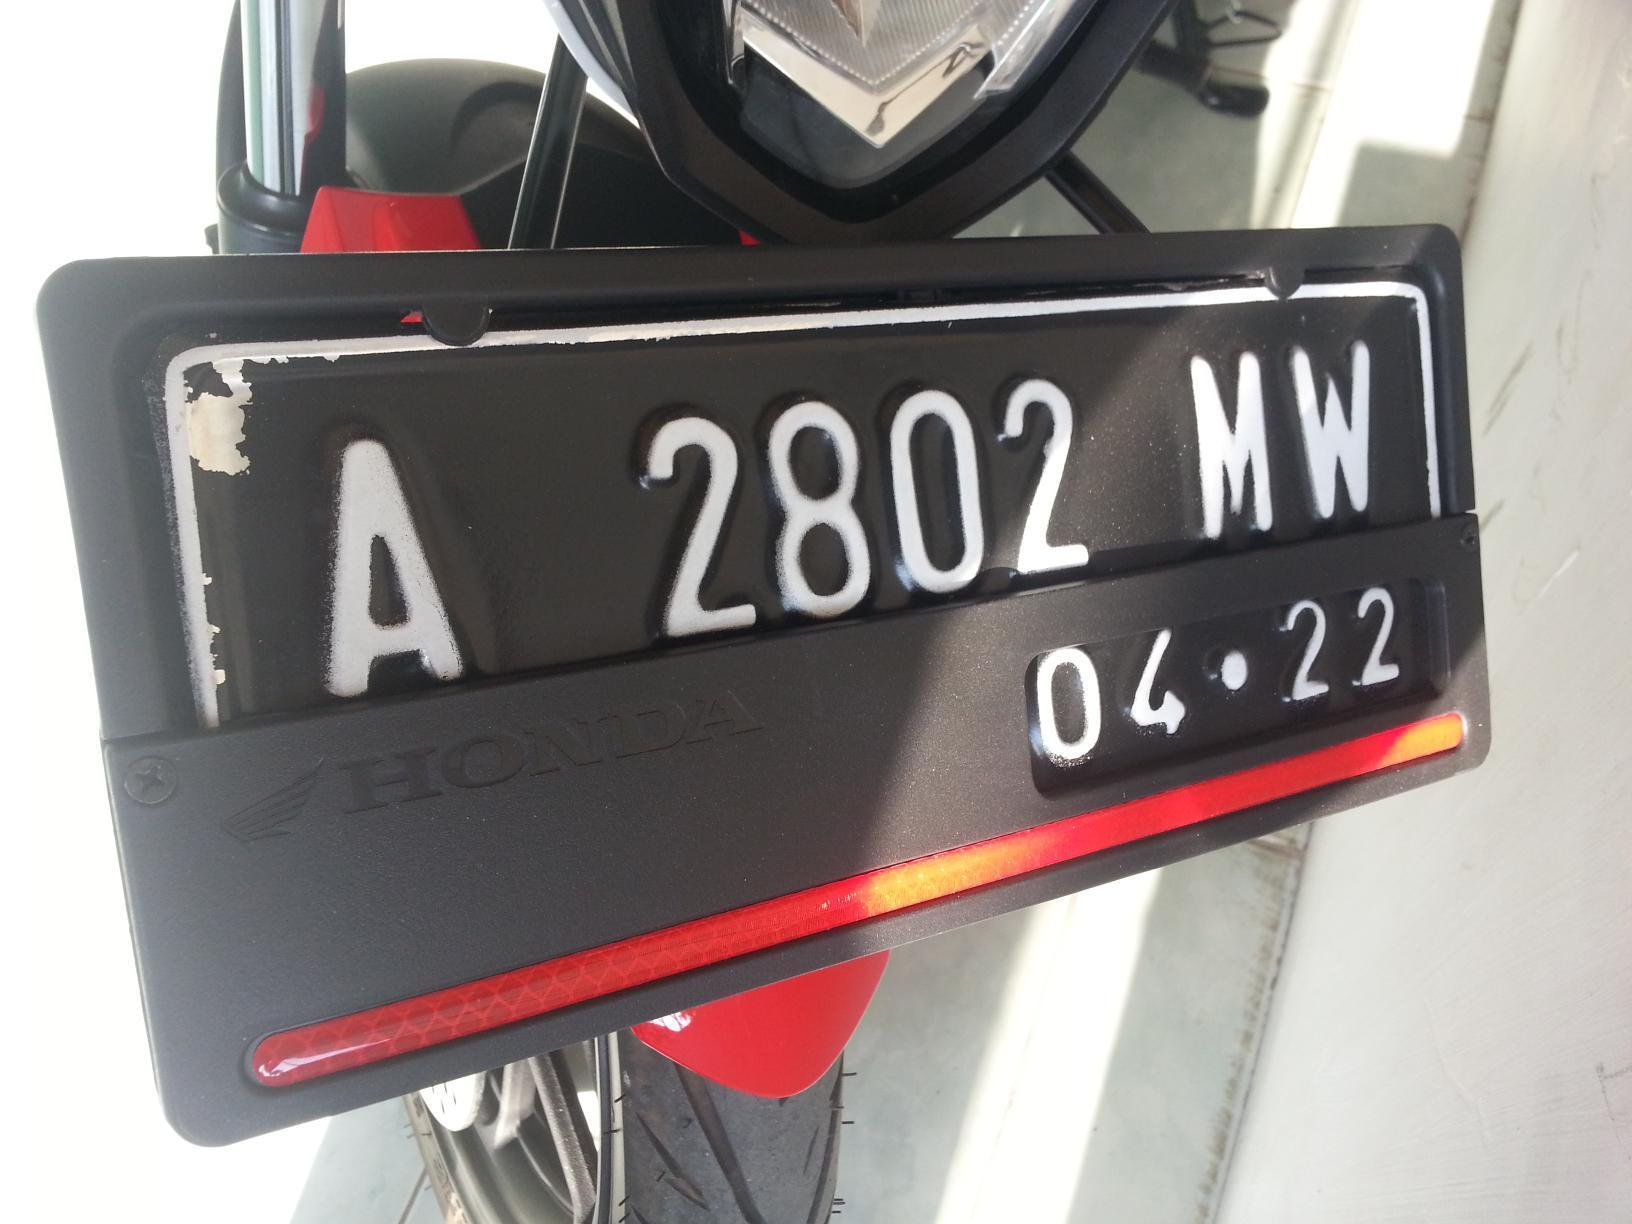0: (864, 373, 1013, 613)
2: (598, 391, 780, 656), (977, 361, 1113, 593)
8: (743, 381, 892, 627)
A: (266, 399, 524, 712)
M: (1171, 345, 1298, 550)
W: (1272, 333, 1402, 541)
